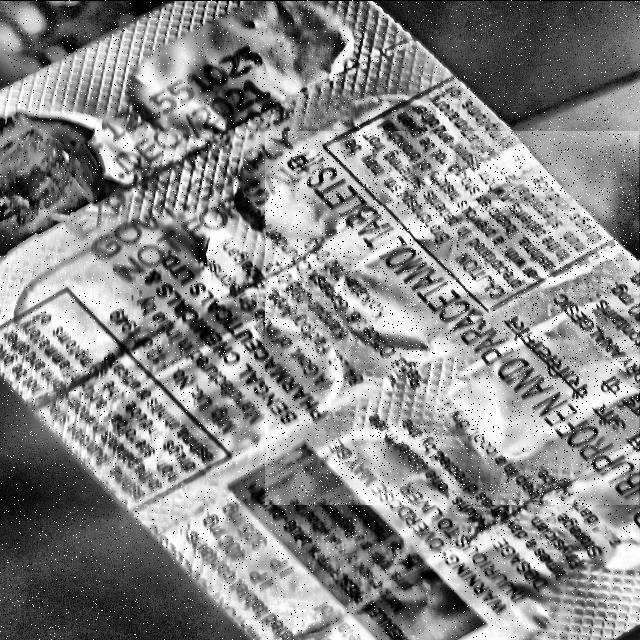IBUPROFEN AND PARACETAMOL TABLETS: (266, 130, 638, 503)
